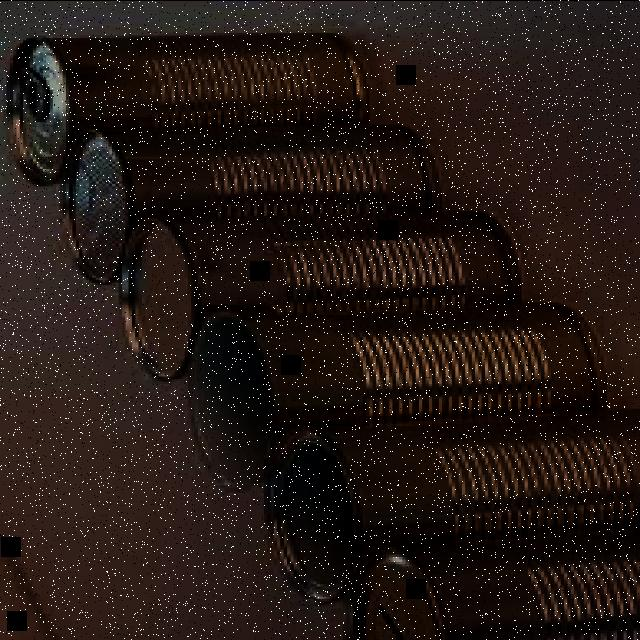can: (183, 302, 605, 494), (260, 403, 640, 603), (114, 208, 524, 384), (57, 124, 447, 284), (3, 28, 369, 184), (338, 523, 640, 640)
